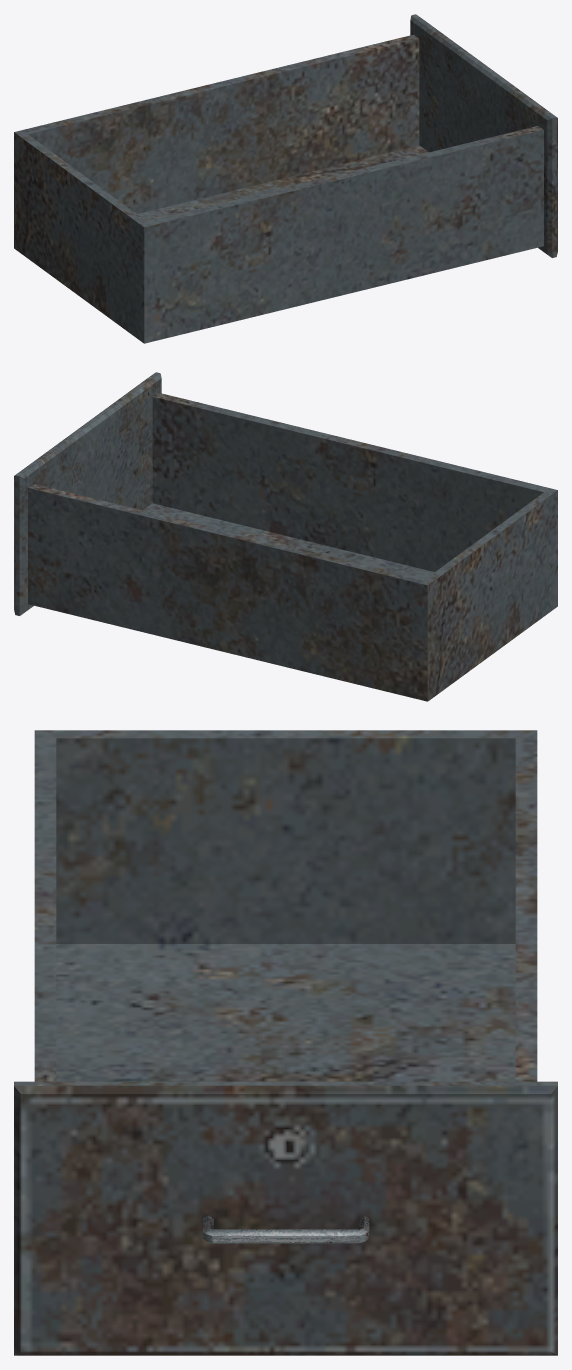
The model's file is SM_INT_DeskMetalDrawer.obj.
3 renders of one model, top to bottom at view 1: azimuth 30°, elevation 25°; view 2: azimuth 150°, elevation 25°; view 3: azimuth 270°, elevation 25°, orthographic. The views are drawn at different scales.
Visible parts, largest first — view 1: SM_INT_DeskMetalDrawer; view 2: SM_INT_DeskMetalDrawer; view 3: SM_INT_DeskMetalDrawer.
Part boxes in pixels (x1,y1,x2,y2): SM_INT_DeskMetalDrawer: [14, 14, 557, 343]; SM_INT_DeskMetalDrawer: [14, 372, 557, 701]; SM_INT_DeskMetalDrawer: [14, 730, 557, 1355].
Bounding box in the file's own units: 73.88 × 23.01 × 42.05.
Materials: 1 (1 with a texture image).
